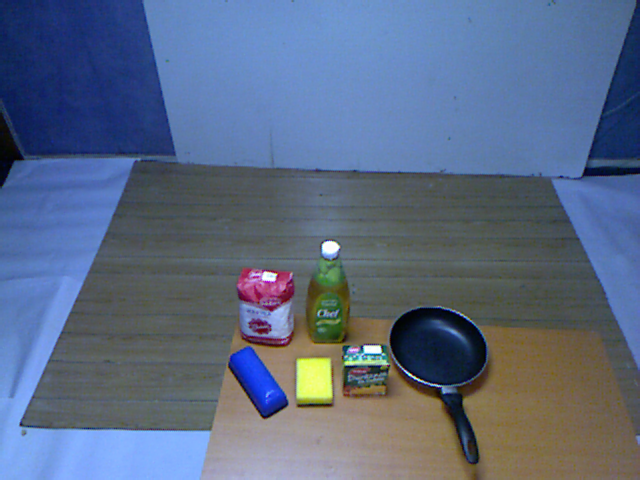aceite: (303, 238, 354, 346)
borrador: (222, 343, 292, 421)
durazno: (334, 340, 393, 404)
esponja: (291, 354, 336, 412)
harina: (231, 264, 300, 349)
sarten: (381, 300, 505, 470)
